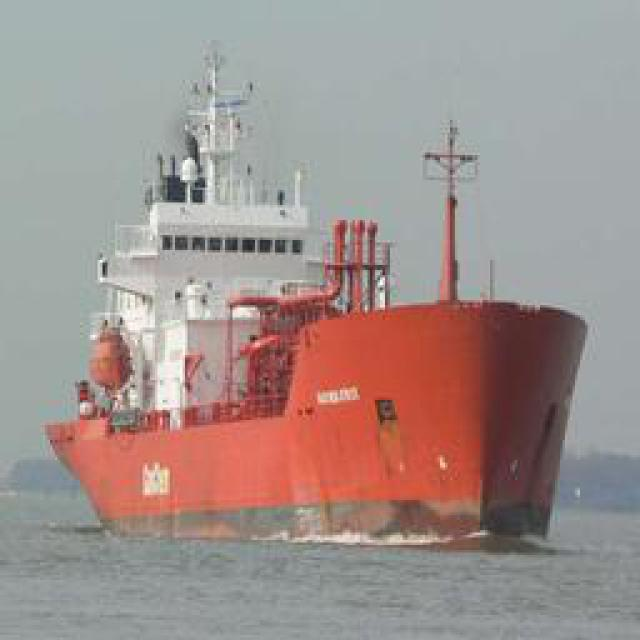Ship: (46, 135, 626, 553)
